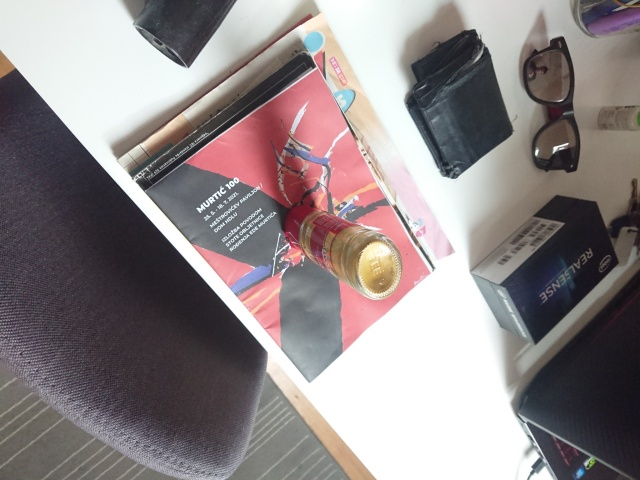Kotanyi Curry Spices Mix 70g: (280, 202, 405, 303)
